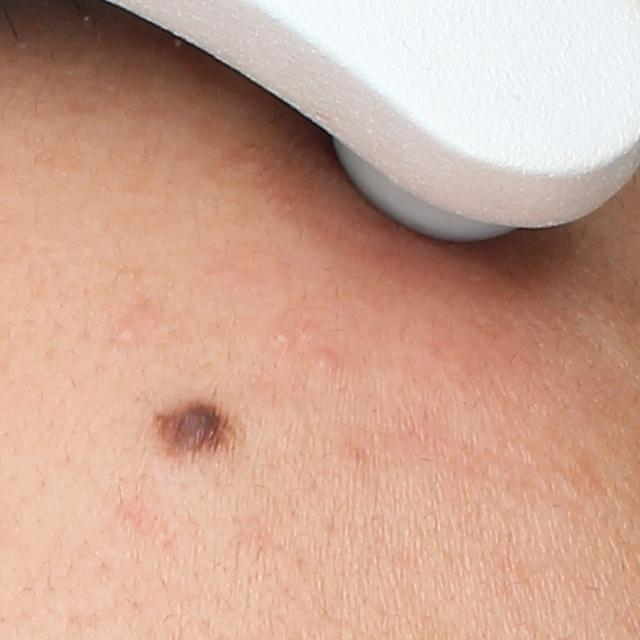comedo: (111, 323, 139, 347), (266, 327, 296, 349)
nevus: (152, 401, 245, 464)
